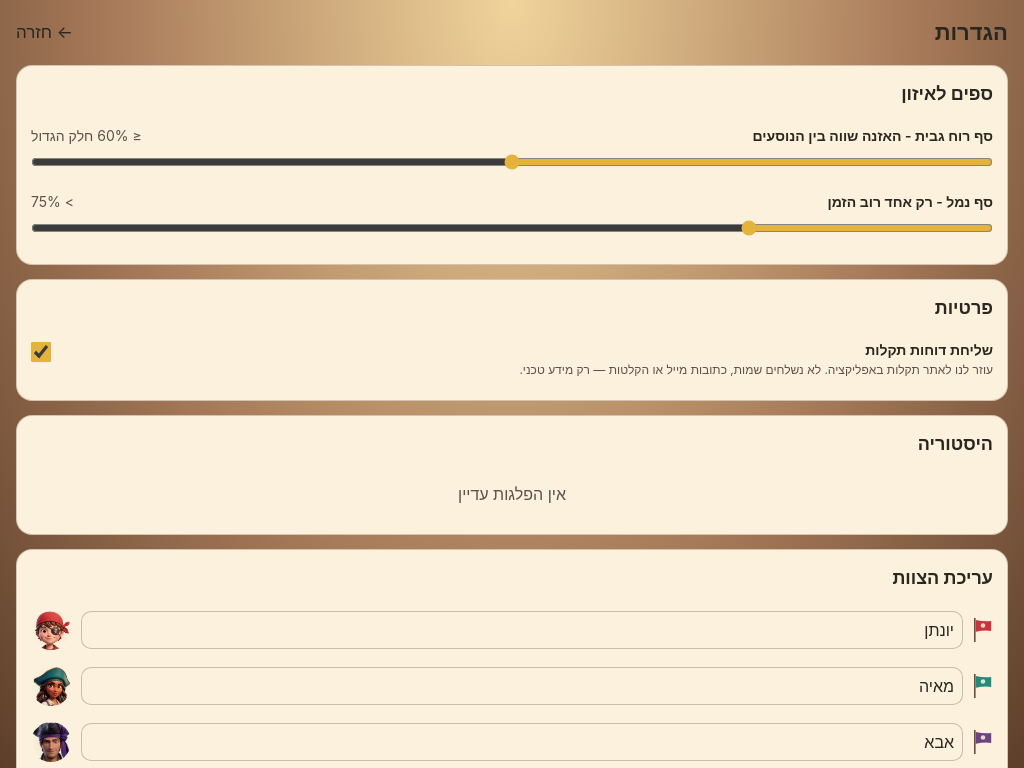
Test case: ScreenSettings — one save button for the whole screen › enables save when the telemetry toggle changes
This screenshot has width=1024, height=768.
Click the checkbox at (41, 352), box x1=31 y1=342 x2=51 y2=362
(page scrolled)
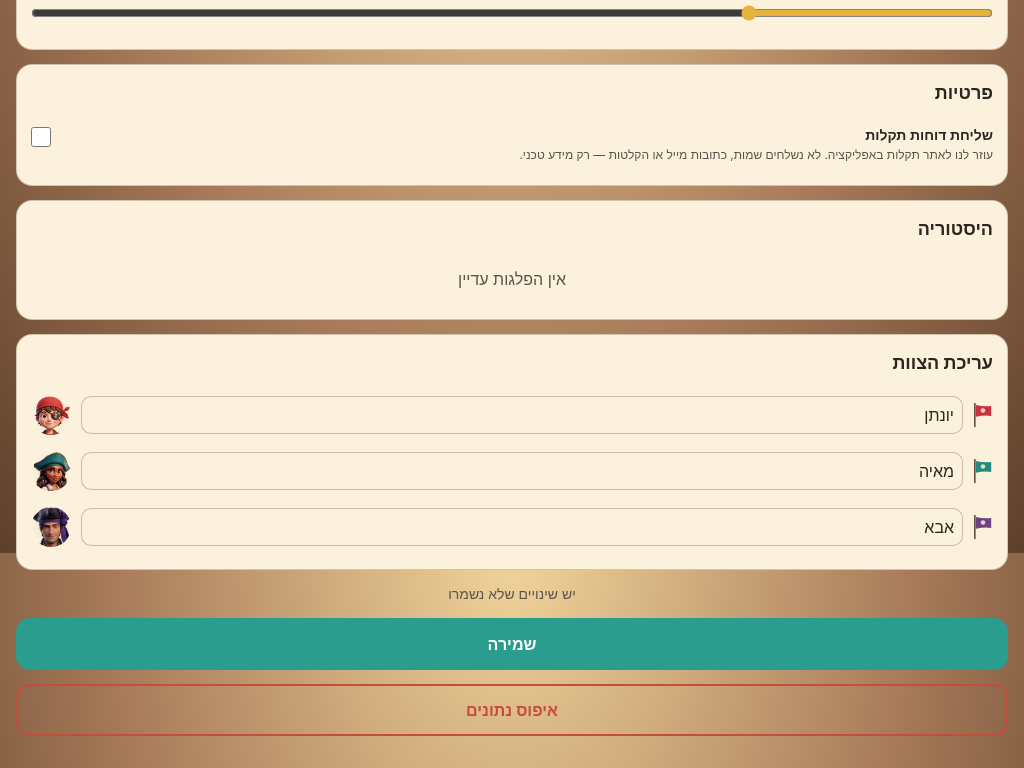
Check: the button "שמירה" is enabled, box x1=16 y1=618 x2=1008 y2=670
